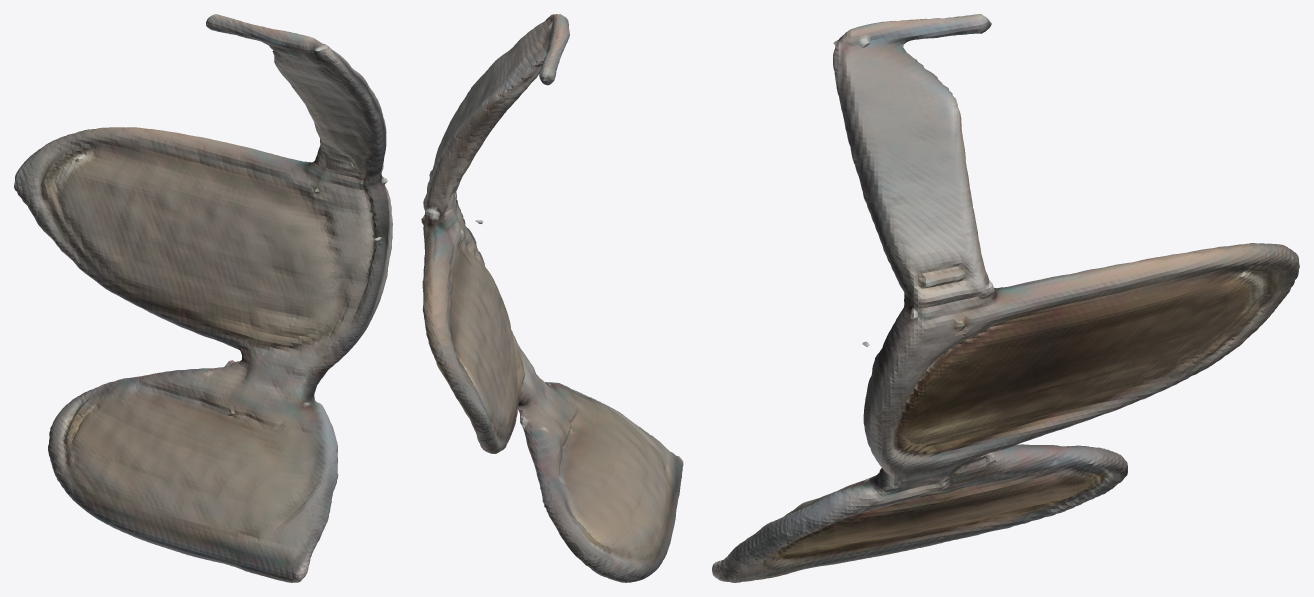
3 views of the same model, side by side, from view 1: azimuth 30°, elevation 25°; view 2: azimuth 150°, elevation 25°; view 3: azimuth 270°, elevation 25° (orthographic). The views are drawn at different scales.
Visible parts, largest first — view 1: world; view 2: world; view 3: world.
Part boxes in pixels (box(x1,y1,x2,y2)): world: box(14, 14, 392, 582); world: box(421, 14, 683, 582); world: box(712, 14, 1299, 582).
Bounding box in the file's own units: 0.645 × 1.13 × 1.01.
